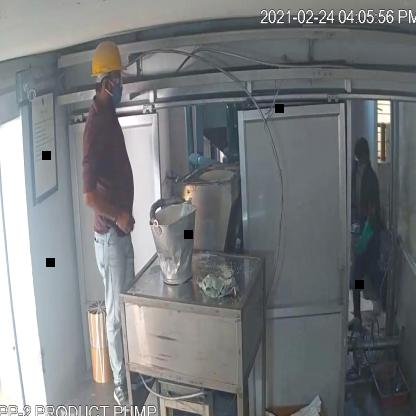helmet: (88, 35, 127, 84)
